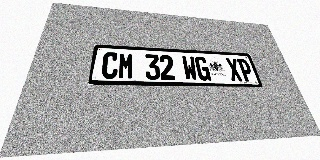2: (159, 55, 175, 80)
3: (145, 54, 160, 80)
C: (101, 52, 119, 79)
G: (194, 56, 212, 81)
M: (118, 53, 134, 79)
P: (236, 58, 255, 82)
W: (181, 56, 198, 81)
X: (225, 58, 243, 81)
